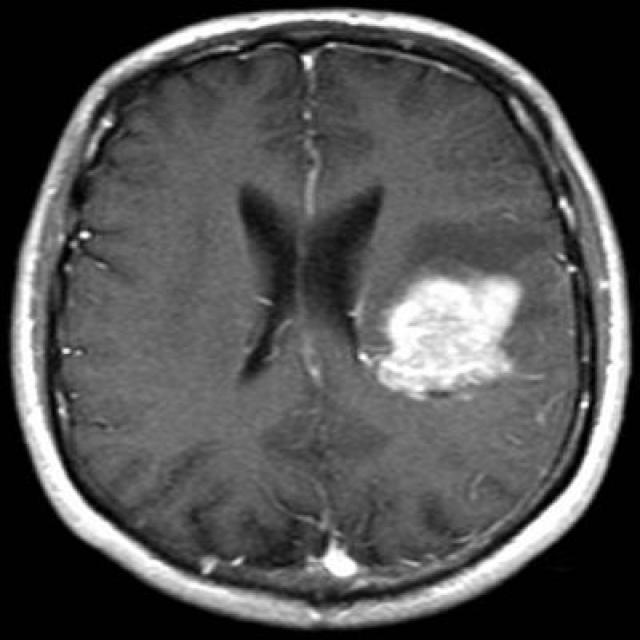brain tumor: (360, 279, 525, 401)
